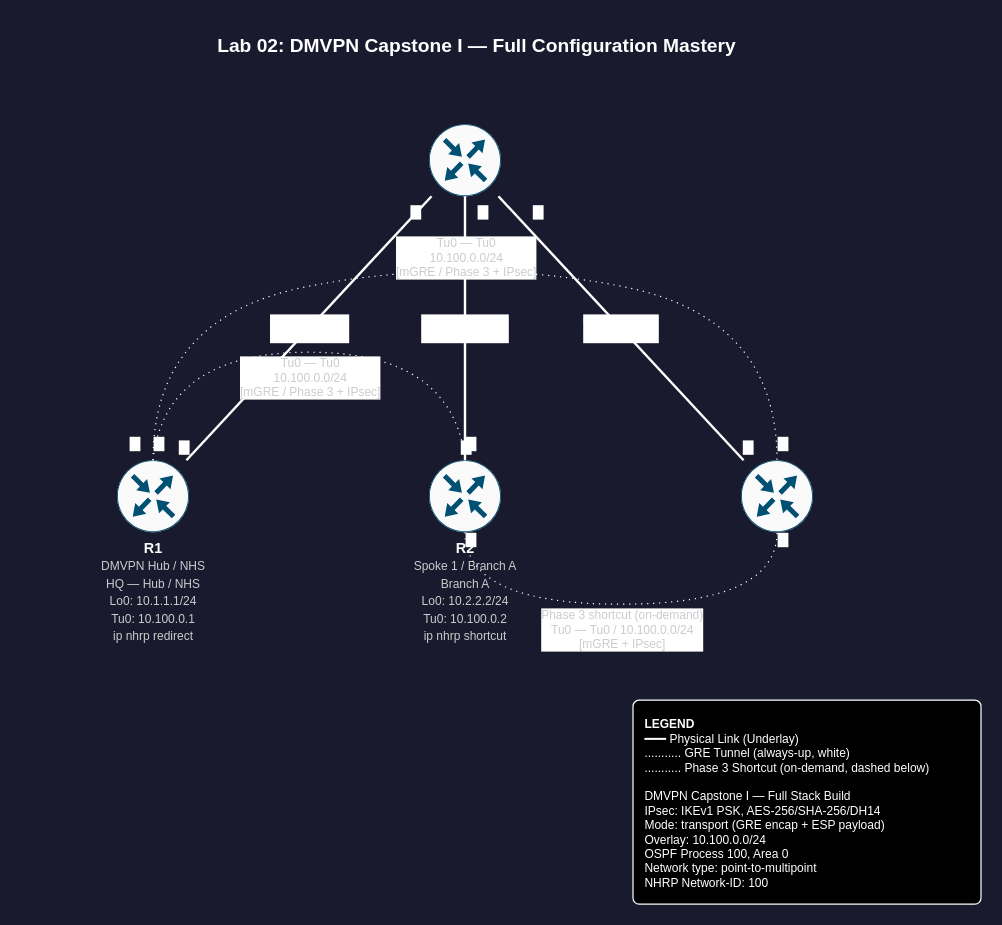
The diagram is 1002 pixels wide and 925 high, and some of its shapes have lost their labels. Here are the shapes that lost their labels. From the top down, the centre of each, then its label:
the point at 464,159: R4 Simulated ISP/Transit Lo0: 4.4.4.4/32
the point at 776,495: R3 Spoke 2 / Branch B Branch B Lo0: 10.3.3.3/24 Tu0: 10.100.0.3 ip nhrp shortcut
